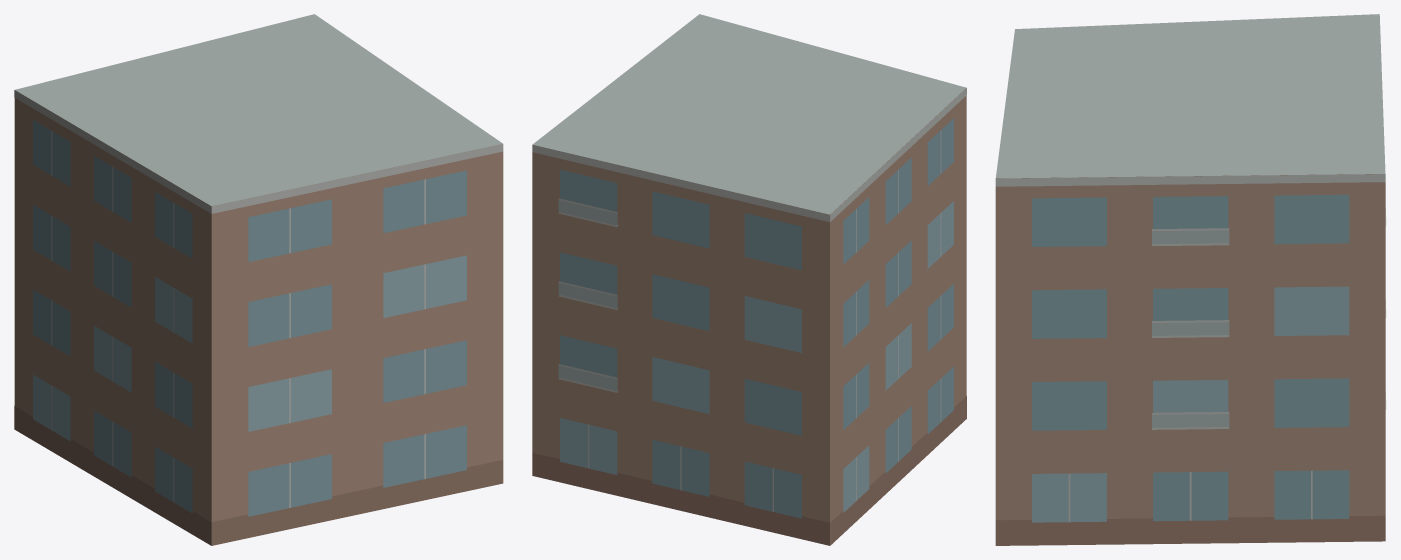
Rendered from survey-upis-32985523.glb.
3 renders of one model, left to right at view 1: azimuth 30°, elevation 25°; view 2: azimuth 150°, elevation 25°; view 3: azimuth 270°, elevation 25°, orthographic. The views are drawn at different scales.
Parts seen in each view (by area): view 1: survey-upis-32985523.tmp; view 2: survey-upis-32985523.tmp; view 3: survey-upis-32985523.tmp.
Boxes of the visible parts, <box> form: survey-upis-32985523.tmp: <box>14,14,503,545</box>; survey-upis-32985523.tmp: <box>532,14,966,545</box>; survey-upis-32985523.tmp: <box>995,14,1386,545</box>.
Size of the model in its own units: 10.37 by 10.8 by 10.42.
